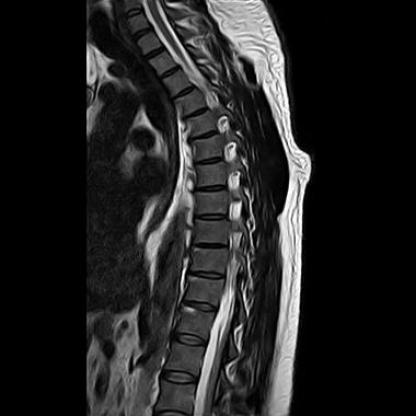Disc Protrusionrotation: (171, 89, 204, 118), (186, 129, 222, 144)
